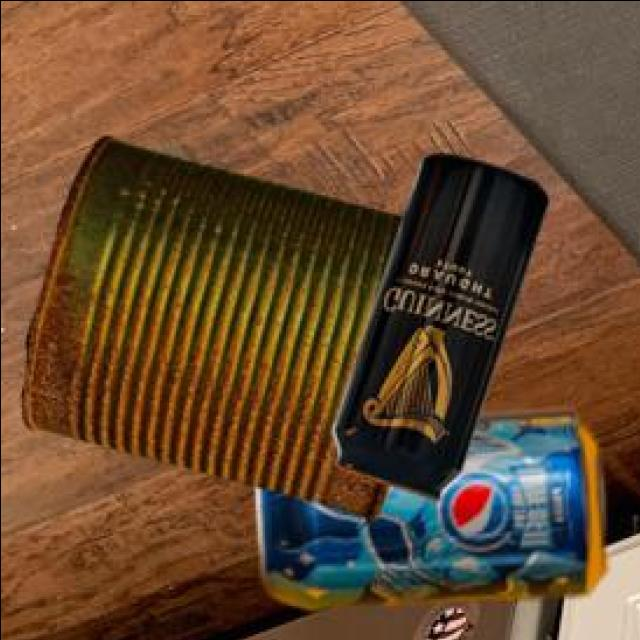logam: (18, 139, 398, 524), (328, 155, 543, 501), (252, 412, 601, 611)
